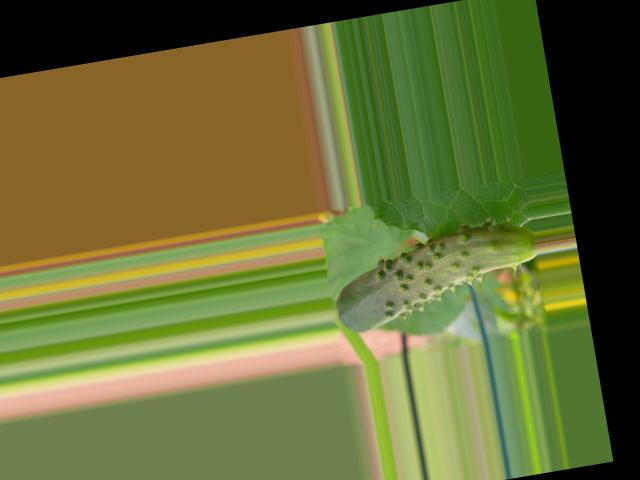cucumber: (325, 214, 543, 335)
